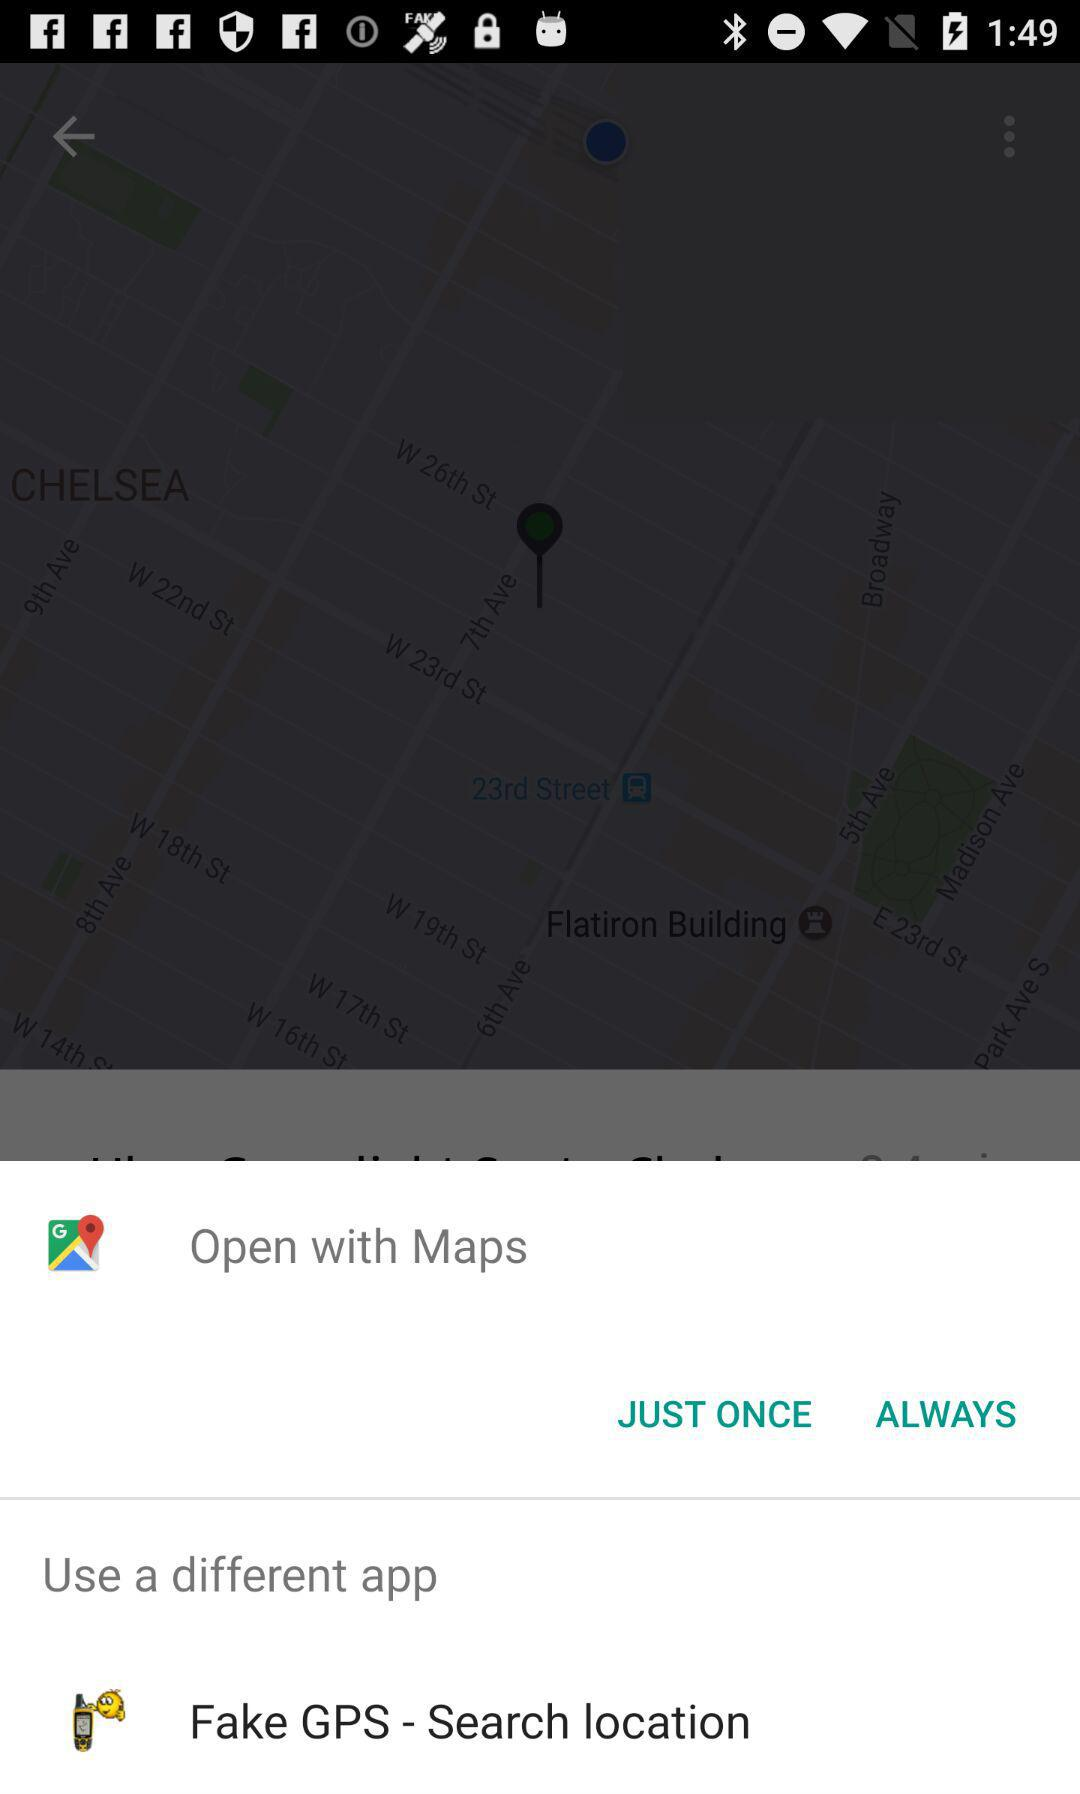Icon: (53, 117, 97, 161), (1001, 114, 1016, 161)
Image: (73, 1686, 129, 1754), (47, 1214, 108, 1272)
Modal: (1, 1161, 1080, 1794)
Text: (192, 1700, 751, 1743), (44, 1553, 438, 1603), (191, 1226, 528, 1274), (618, 1399, 814, 1430), (875, 1399, 1017, 1429)
UpperTaskBar: (1, 1, 1080, 64)
